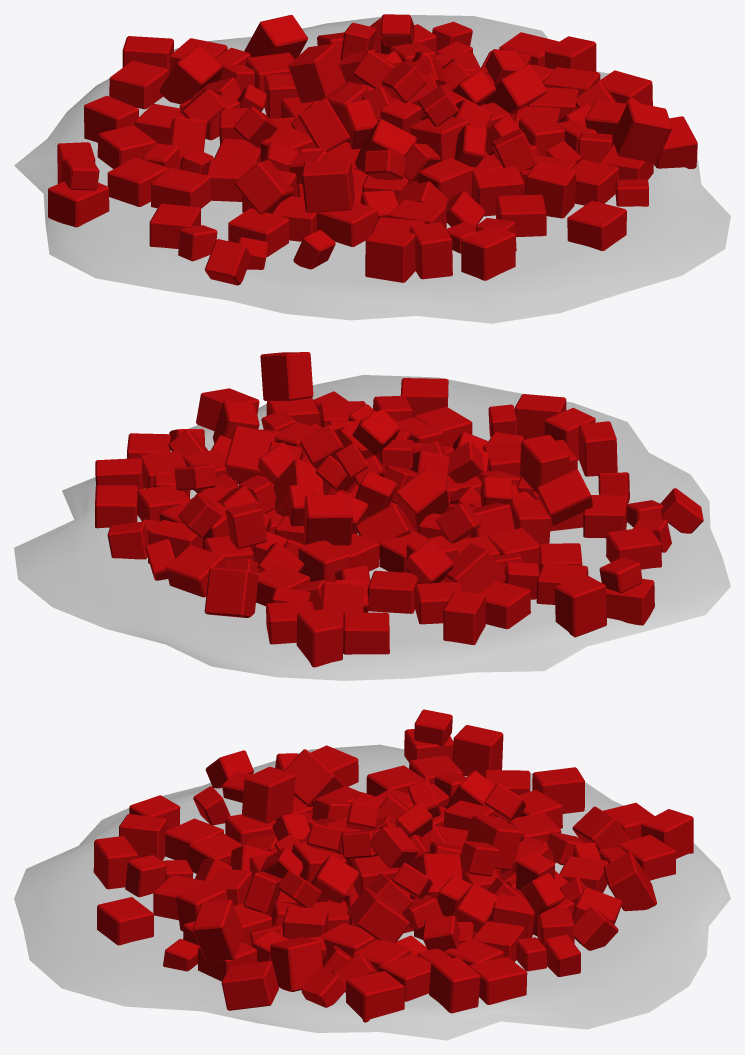
File: TomatoDiced.fbx
The picture shows the model from 3 angles, top to bottom: view 1: azimuth 30°, elevation 25°; view 2: azimuth 150°, elevation 25°; view 3: azimuth 270°, elevation 25°; orthographic projection. The views are drawn at different scales.
Visible parts, largest first — view 1: Icosphere; view 2: Icosphere; view 3: Icosphere.
Boxes of the visible parts, x1,y1,x2,y2 form: Icosphere: [14, 14, 730, 323]; Icosphere: [14, 352, 730, 680]; Icosphere: [14, 709, 730, 1040].
Bounding box in the file's own units: 216 × 38.08 × 222.
